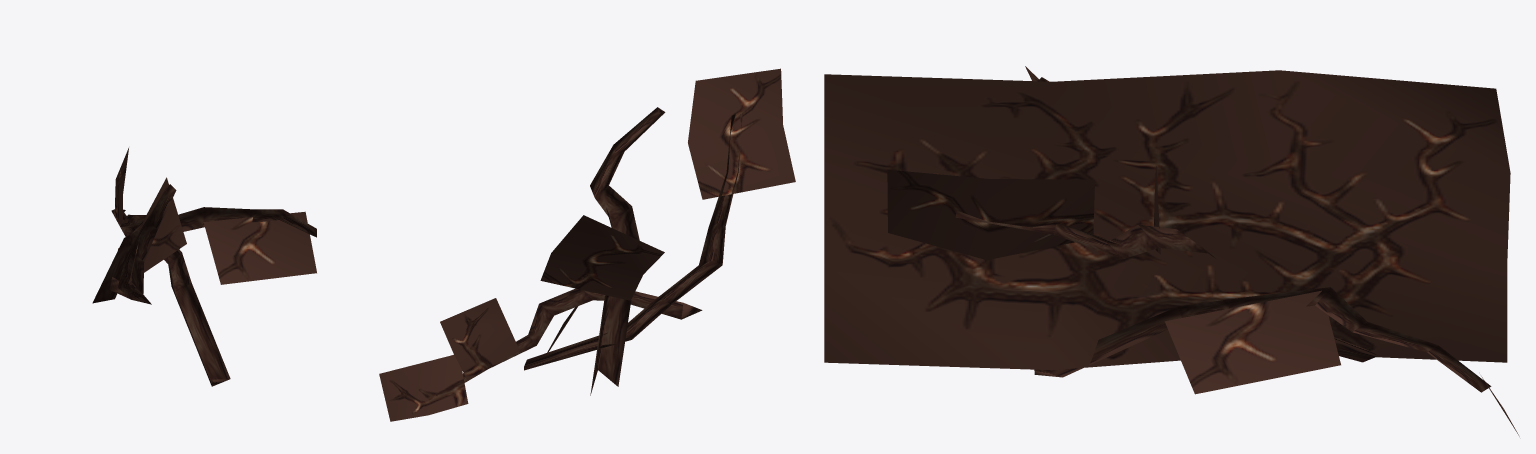
File: briar_patch.glb
The picture shows the model from 3 angles, left to right: view 1: azimuth 30°, elevation 25°; view 2: azimuth 150°, elevation 25°; view 3: azimuth 270°, elevation 25°; orthographic projection. The views are drawn at different scales.
Parts seen in each view (by area): view 1: briar_patch; view 2: briar_patch; view 3: briar_patch.
Boxes of the visible parts, x1=… form: briar_patch: x1=92, y1=148, x2=316, y2=386; briar_patch: x1=379, y1=68, x2=795, y2=421; briar_patch: x1=824, y1=66, x2=1519, y2=436.
Size of the model in its own units: 1.12 by 1.16 by 2.31.
1 material, 1 textured.
